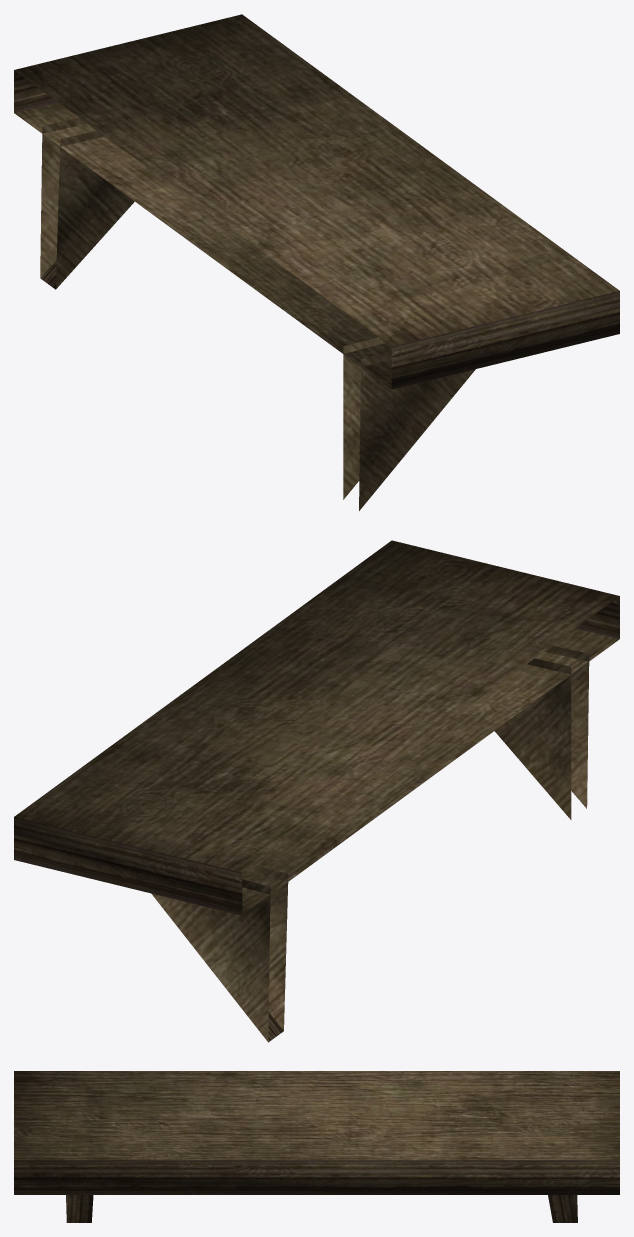
Rendered from GS_VOB_SHELF_BROWN_01_KOZA.glb.
3 renders of one model, top to bottom at view 1: azimuth 30°, elevation 25°; view 2: azimuth 150°, elevation 25°; view 3: azimuth 270°, elevation 25°, orthographic. The views are drawn at different scales.
Visible parts, largest first — view 1: Mesh; view 2: Mesh; view 3: Mesh.
Boxes of the visible parts, box(x1,y1,x2,y2) form: Mesh: box(14, 14, 619, 510); Mesh: box(14, 540, 619, 1042); Mesh: box(14, 1071, 619, 1222).
Size of the model in its own units: 0.6657 by 0.5274 by 1.91.
2 materials, 2 textured.
